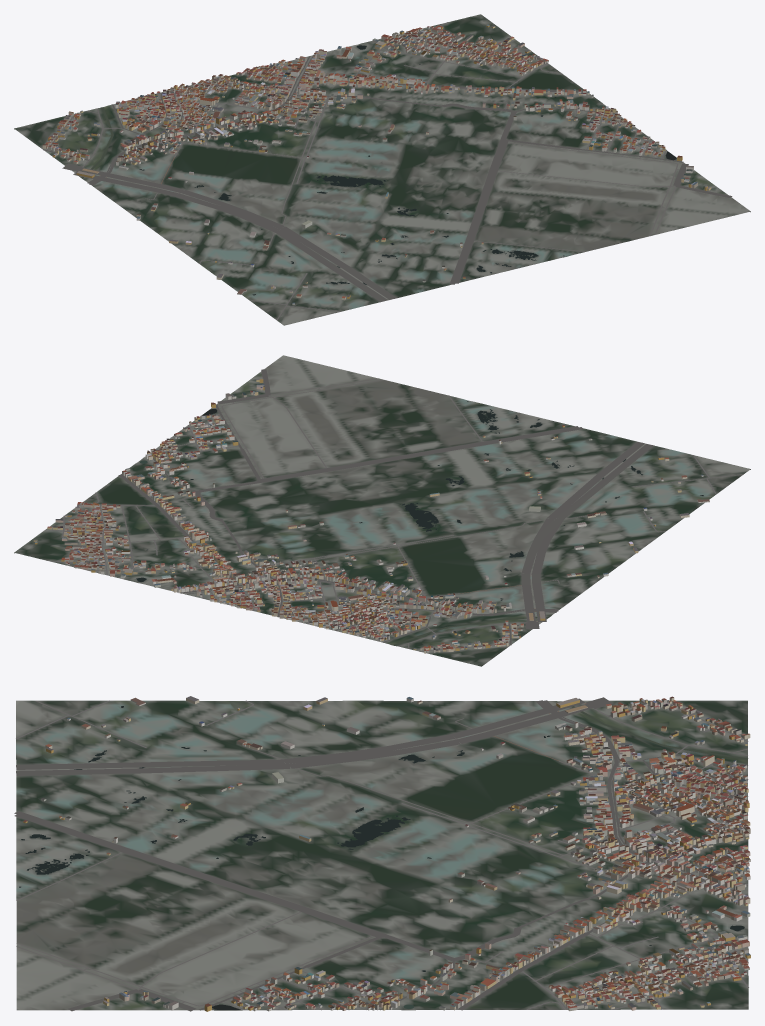
The picture shows the model from 3 angles, top to bottom: view 1: azimuth 30°, elevation 25°; view 2: azimuth 150°, elevation 25°; view 3: azimuth 270°, elevation 25°; orthographic projection. The views are drawn at different scales.
Parts seen in each view (by area): view 1: ground, buildings, roads, water; view 2: ground, buildings, roads, water; view 3: ground, buildings, roads, water.
Boxes of the visible parts, x1,y1,x2,y2 form: ground: [14, 14, 750, 325]; buildings: [42, 24, 711, 304]; roads: [43, 22, 732, 320]; water: [81, 45, 676, 295]; ground: [14, 355, 750, 666]; buildings: [33, 378, 709, 653]; roads: [46, 369, 743, 651]; water: [136, 401, 703, 645]; ground: [16, 700, 748, 1010]; buildings: [23, 696, 750, 1011]; roads: [14, 697, 748, 1011]; water: [19, 706, 748, 1009].
Bounding box in the file's own units: 1424 × 25.61 × 1412.
